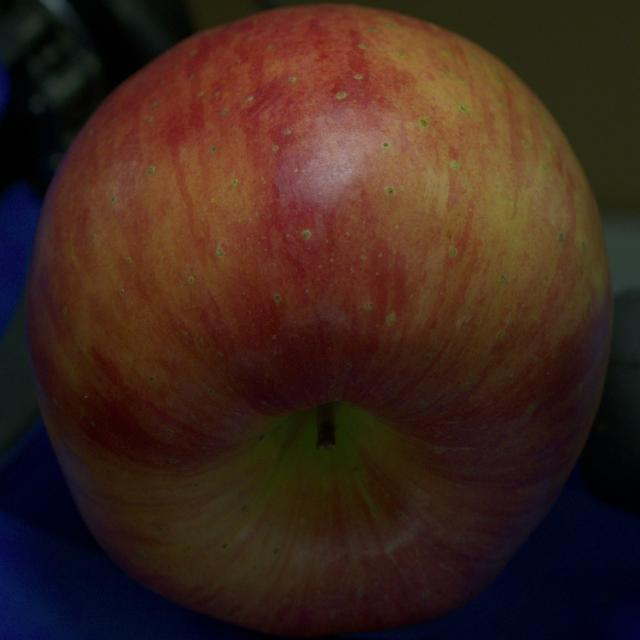apple: (26, 6, 612, 635)
